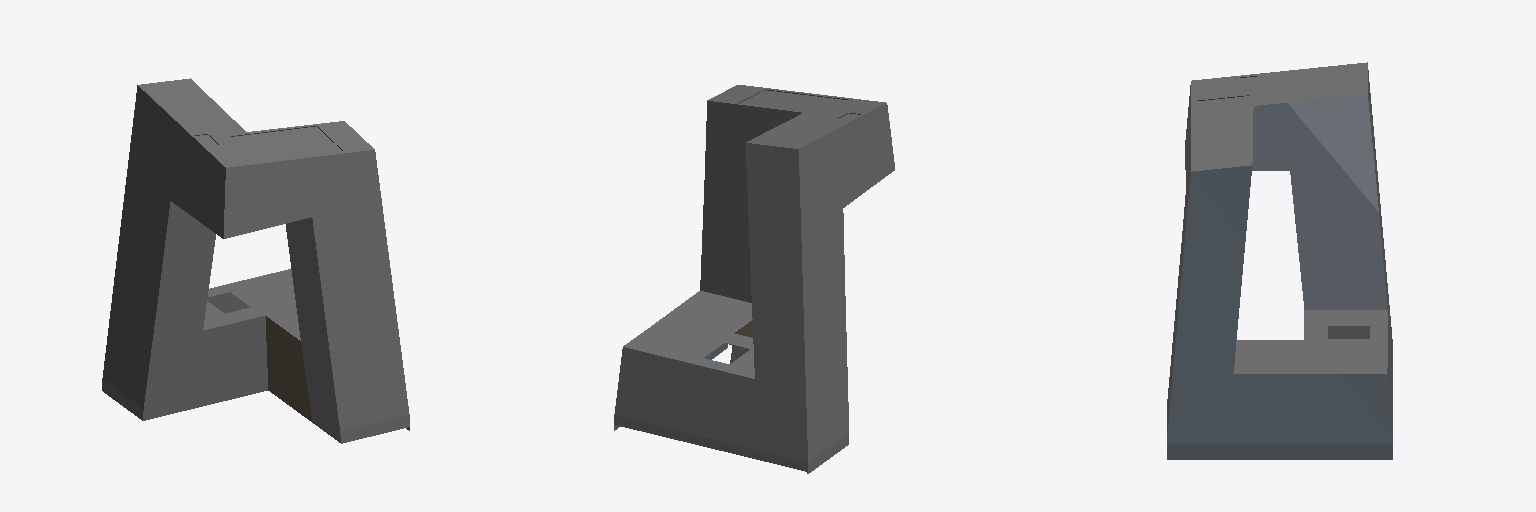
The model's file is CCTVHEADQUARTER.obj.
3 renders of one model, left to right at view 1: azimuth 30°, elevation 25°; view 2: azimuth 150°, elevation 25°; view 3: azimuth 270°, elevation 25°, orthographic.
Bounding box in the file's own units: 6269 × 9720 × 6360.